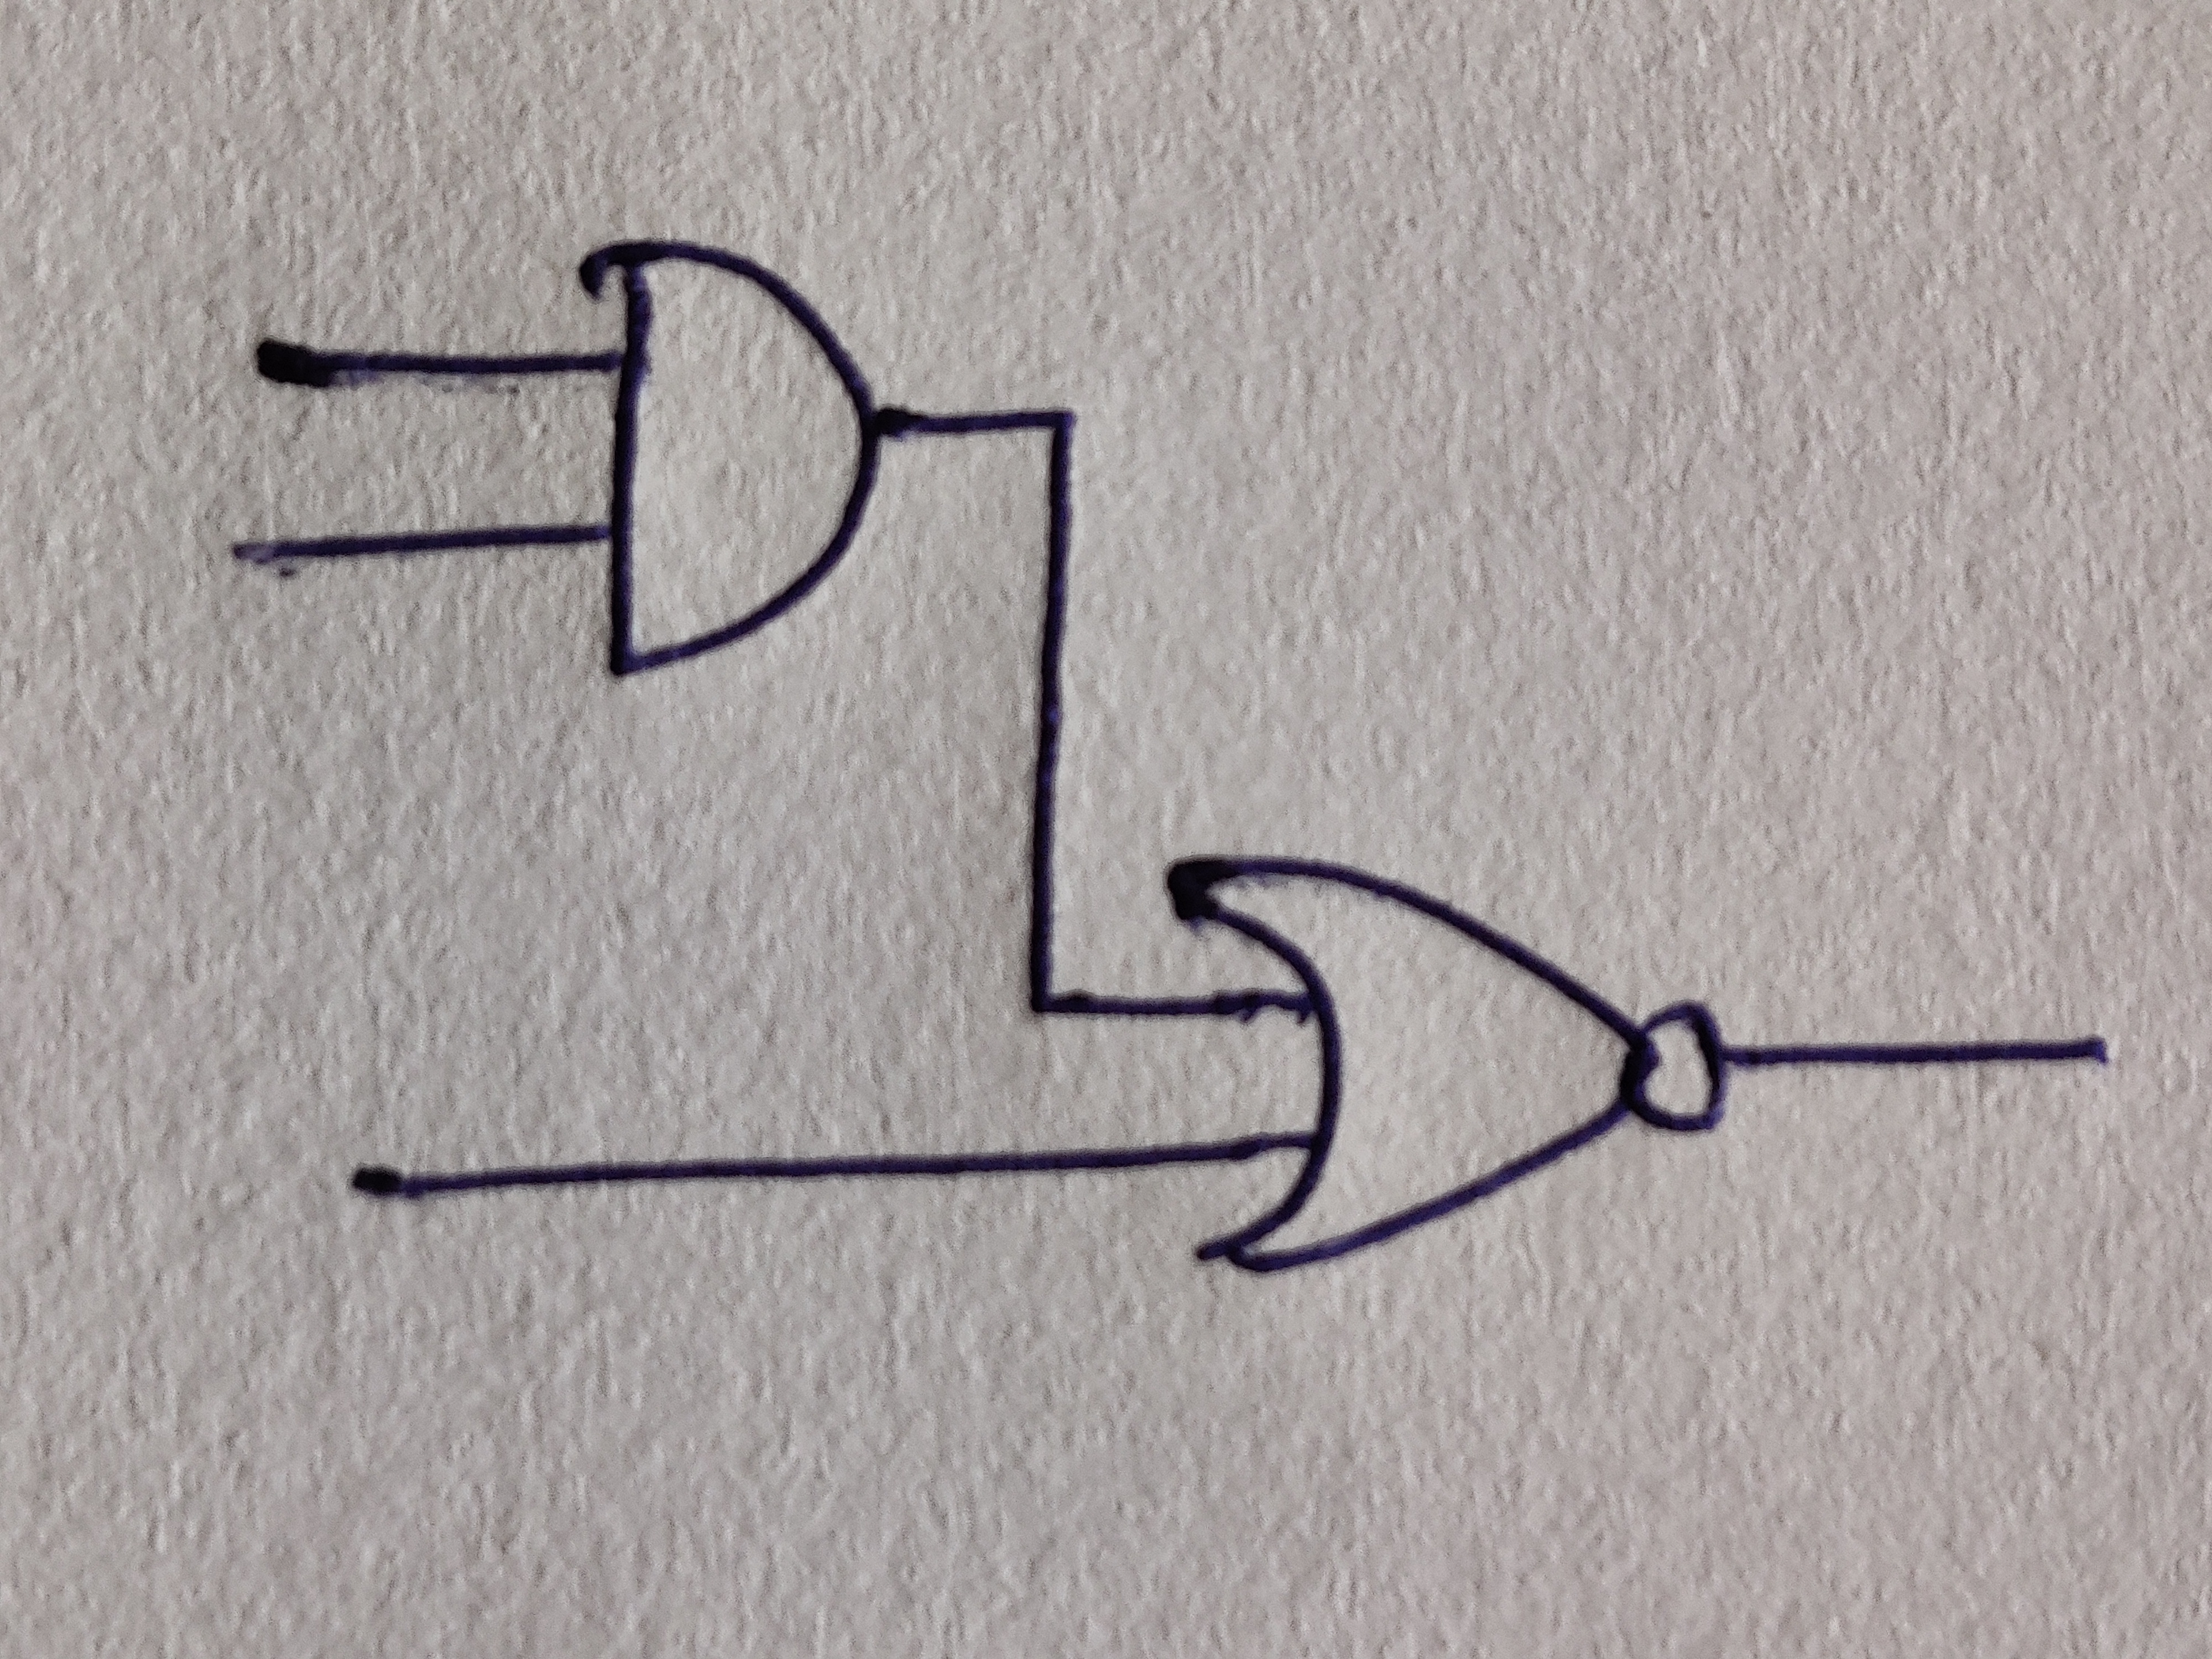and: (583, 240, 871, 666)
not: (1625, 1004, 1730, 1133)
or: (1167, 854, 1639, 1269)
